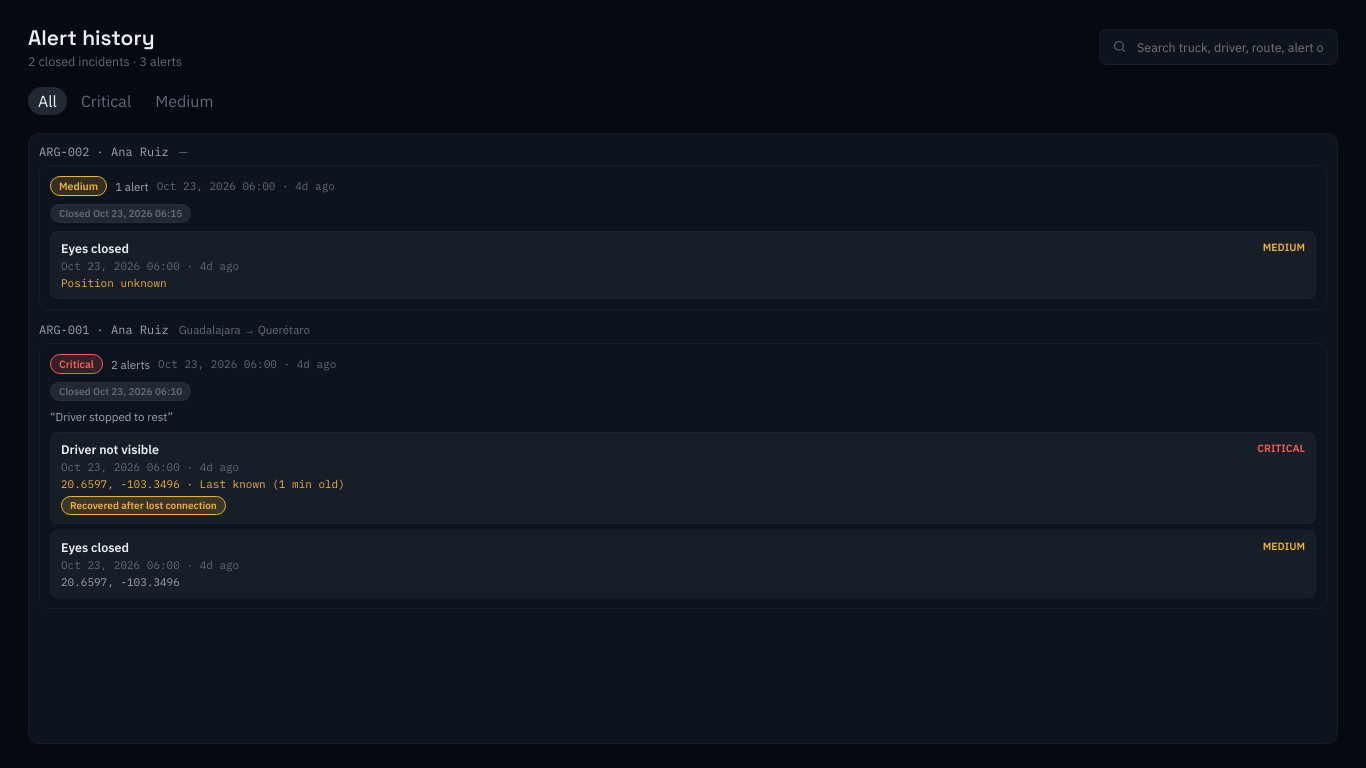
Test case: AlertHistory › filters by severity and by search text
This screenshot has width=1366, height=768.
Click the button "Critical". click: click(106, 101)
box: [71, 87, 141, 115]
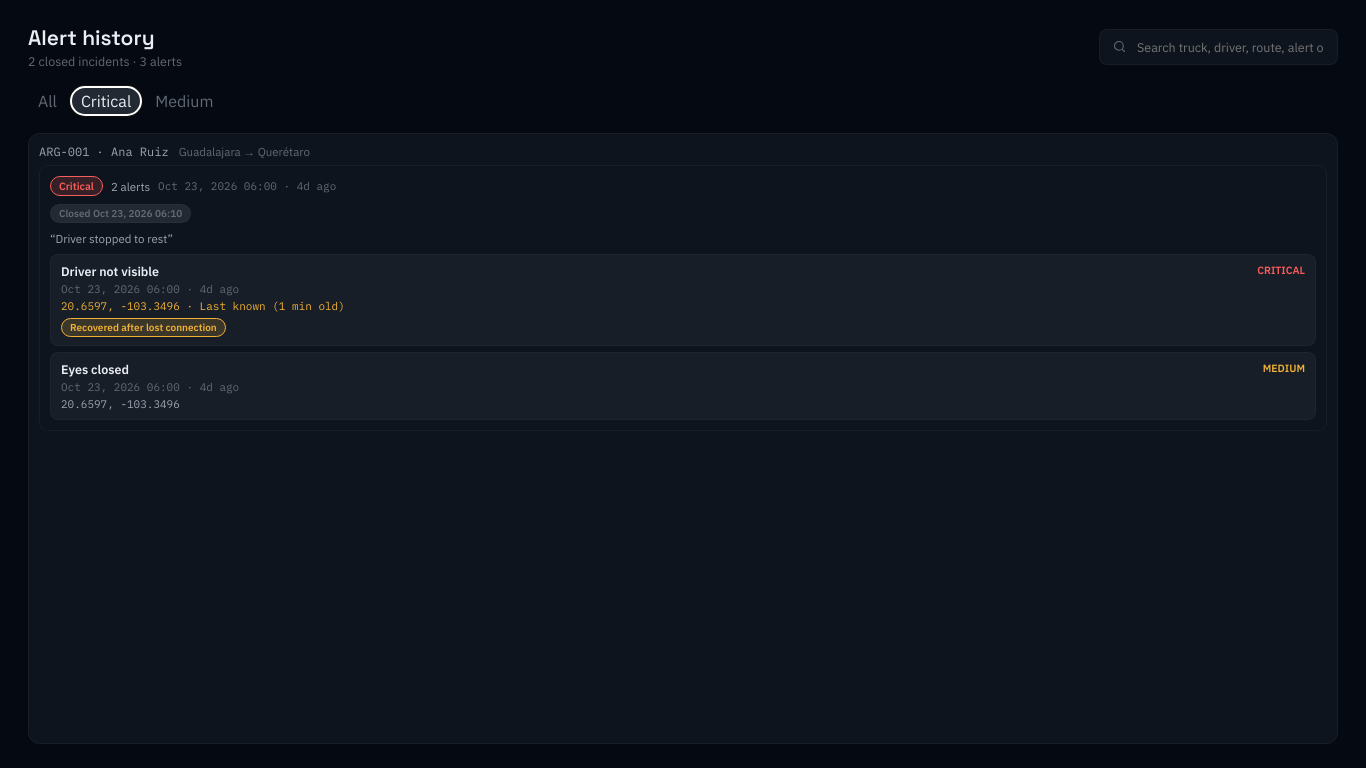
Now the number of elements with test id "incident-card" is 1, box [39, 165, 1327, 431]
Click the button "All". click: click(47, 101)
box: [28, 87, 67, 115]
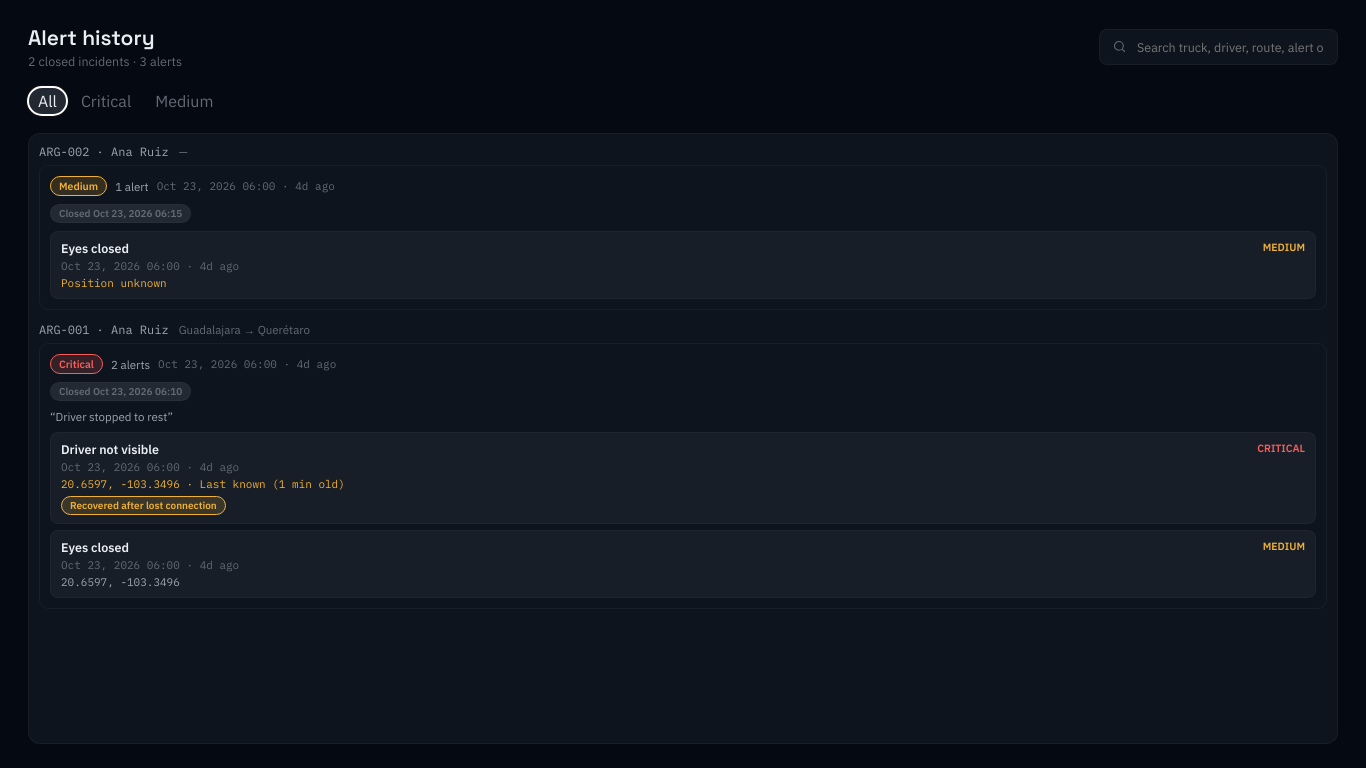
Type "ARG-002" into the field. click: (1230, 46)
box: [1135, 38, 1325, 56]
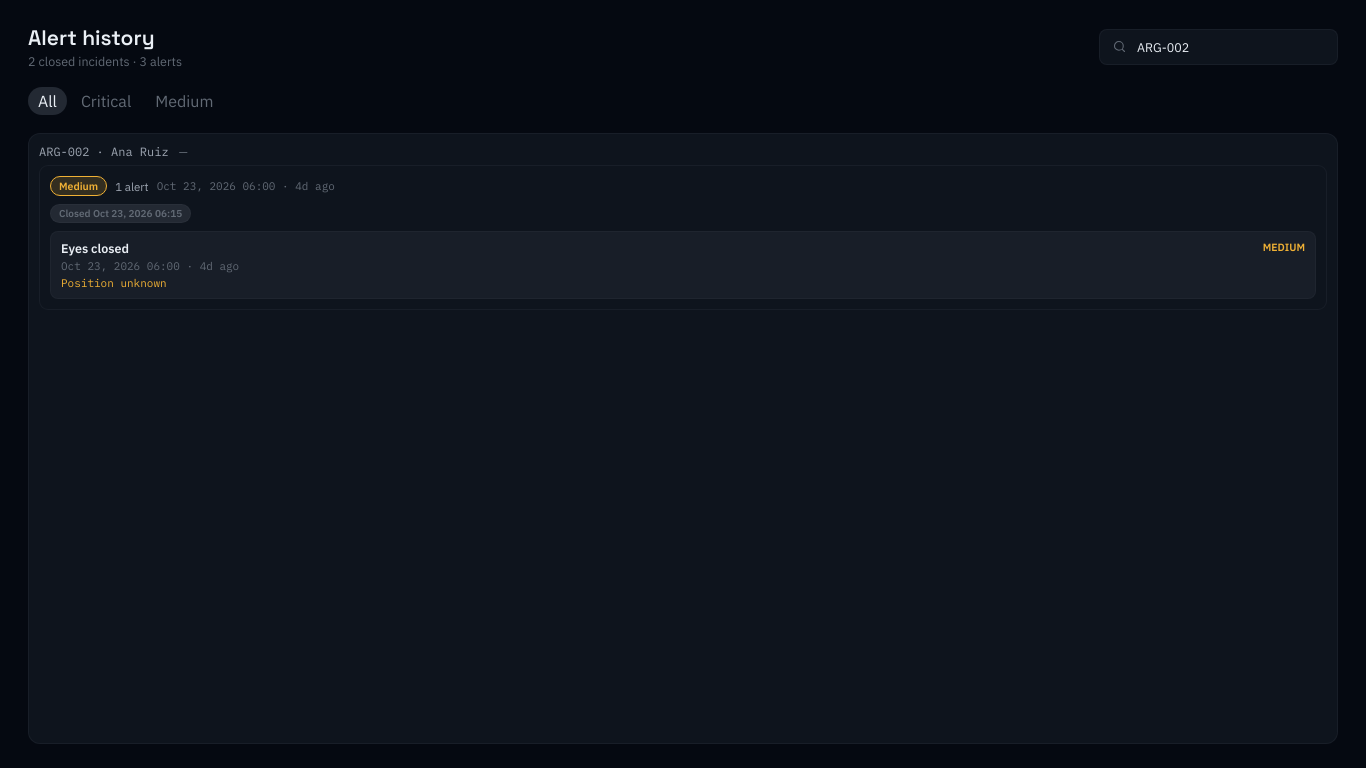
Now the text "Position unknown" is shown, box [61, 276, 167, 290]
Now the number of elements with test id "incident-card" is 1, box [39, 165, 1327, 310]
